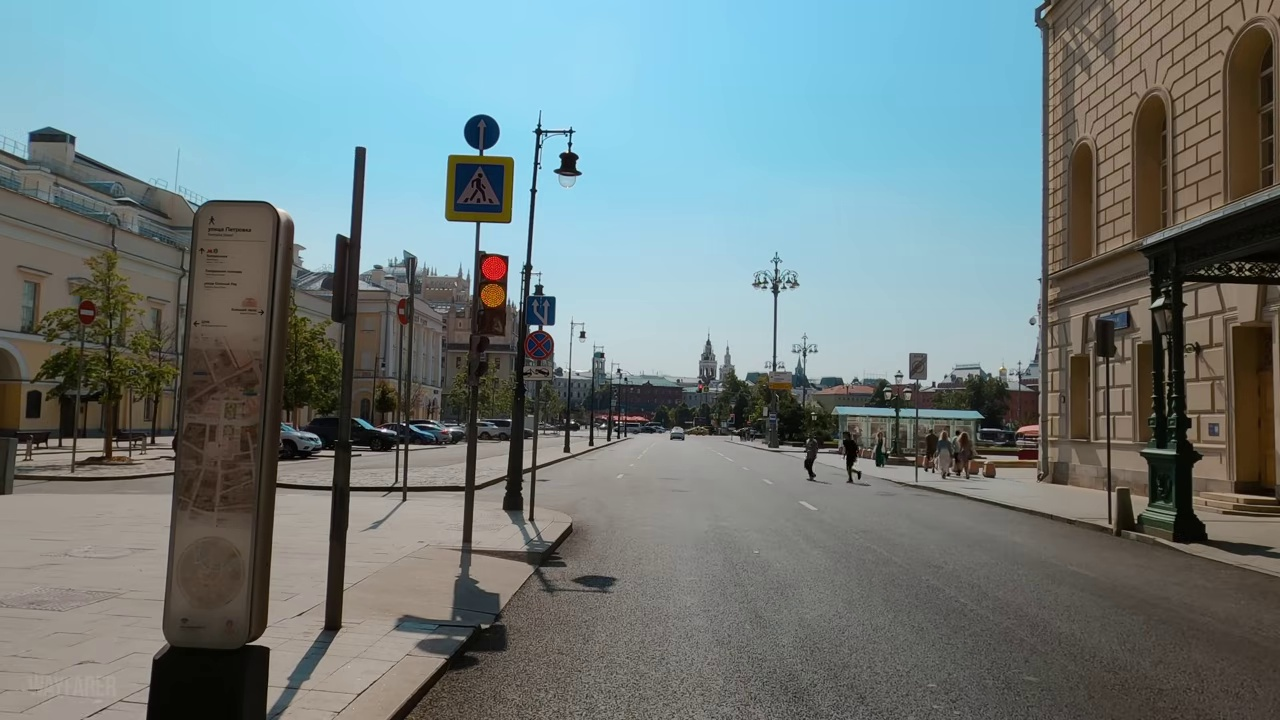apagada: (750, 267, 800, 300), (555, 148, 582, 192)
